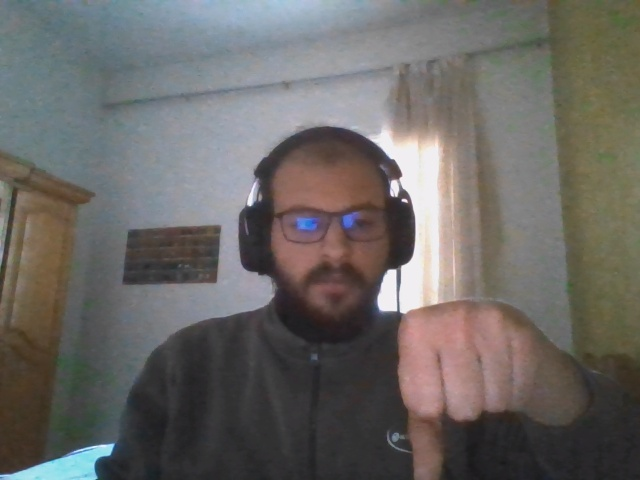Yes: (399, 305, 542, 477)
